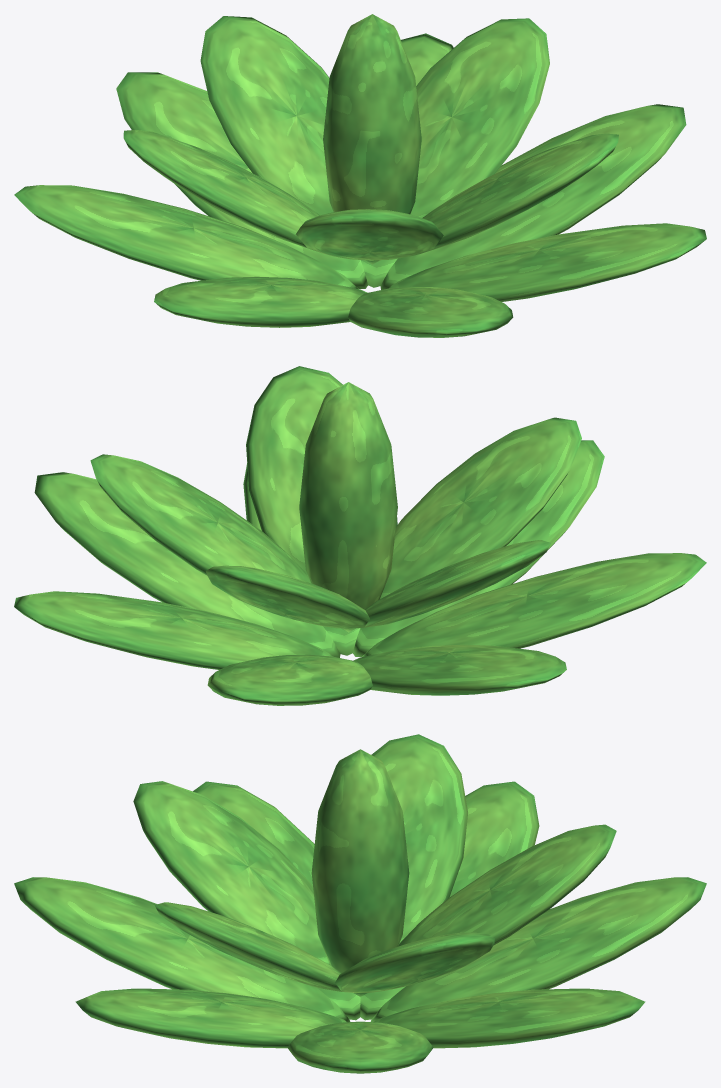
File: weed.glb
3 views of the same model, one above another, from view 1: azimuth 30°, elevation 25°; view 2: azimuth 150°, elevation 25°; view 3: azimuth 270°, elevation 25° (orthographic).
Visible parts, largest first — view 1: weed; view 2: weed; view 3: weed.
Boxes of the visible parts, left/top/right/bottom form: weed: left=14, top=14, right=706, bottom=337; weed: left=14, top=366, right=706, bottom=705; weed: left=14, top=734, right=706, bottom=1073.
Bounding box in the file's own units: 0.6921 × 0.3125 × 0.7096.
Materials: 1 (1 with a texture image).
